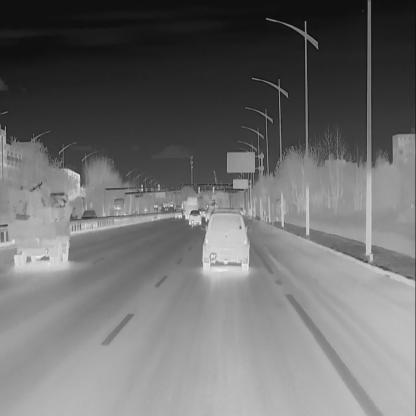car: (201, 208, 252, 272), (188, 208, 202, 226), (79, 208, 96, 221), (204, 207, 213, 223), (174, 207, 184, 218), (164, 206, 169, 212)
truck: (3, 178, 74, 268), (185, 194, 203, 220), (111, 196, 127, 219)
